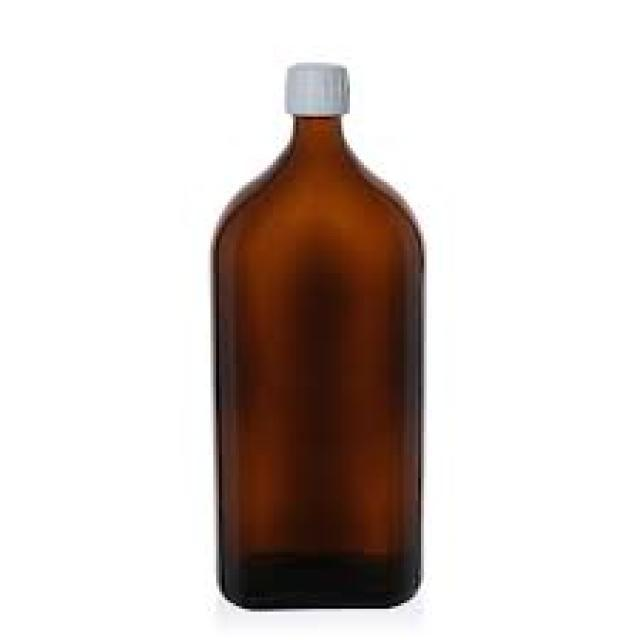Glass: (212, 112, 429, 610)
